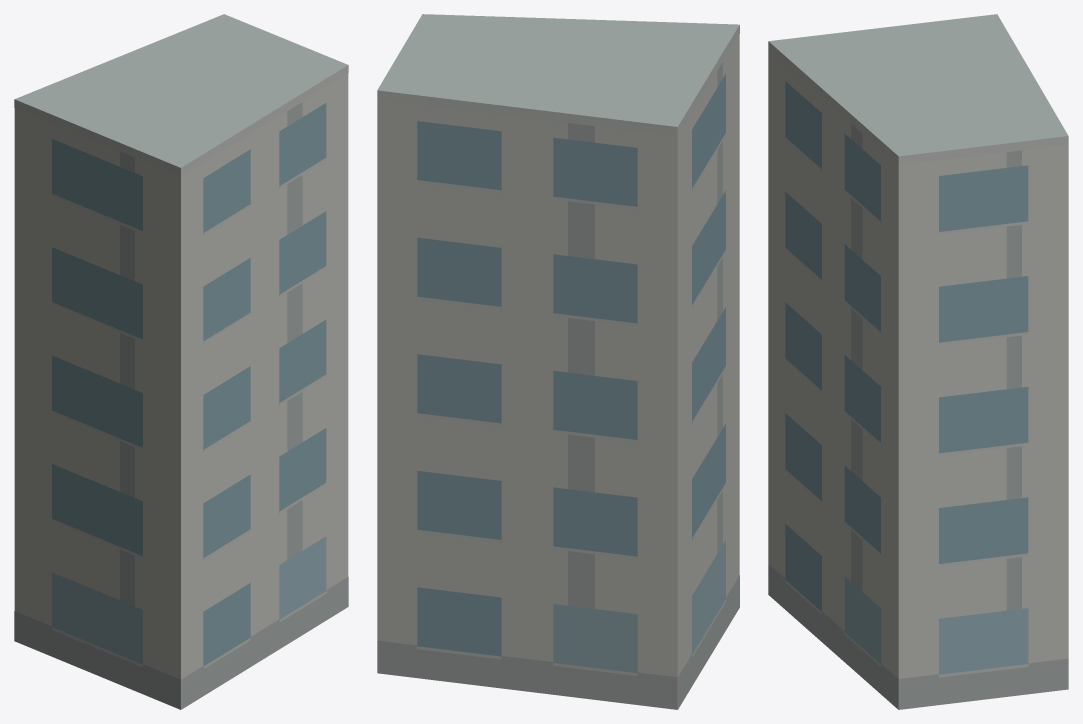
File: survey-upis-32683096.glb
3 views of the same model, side by side, from view 1: azimuth 30°, elevation 25°; view 2: azimuth 150°, elevation 25°; view 3: azimuth 270°, elevation 25° (orthographic). The views are drawn at different scales.
Parts seen in each view (by area): view 1: survey-upis-32683096.tmp; view 2: survey-upis-32683096.tmp; view 3: survey-upis-32683096.tmp.
Part boxes in pixels (x1,y1,x2,y2): survey-upis-32683096.tmp: (14, 14, 348, 709); survey-upis-32683096.tmp: (377, 14, 739, 709); survey-upis-32683096.tmp: (768, 14, 1068, 709).
Bounding box in the file's own units: 8.42 × 15.25 × 7.51.
